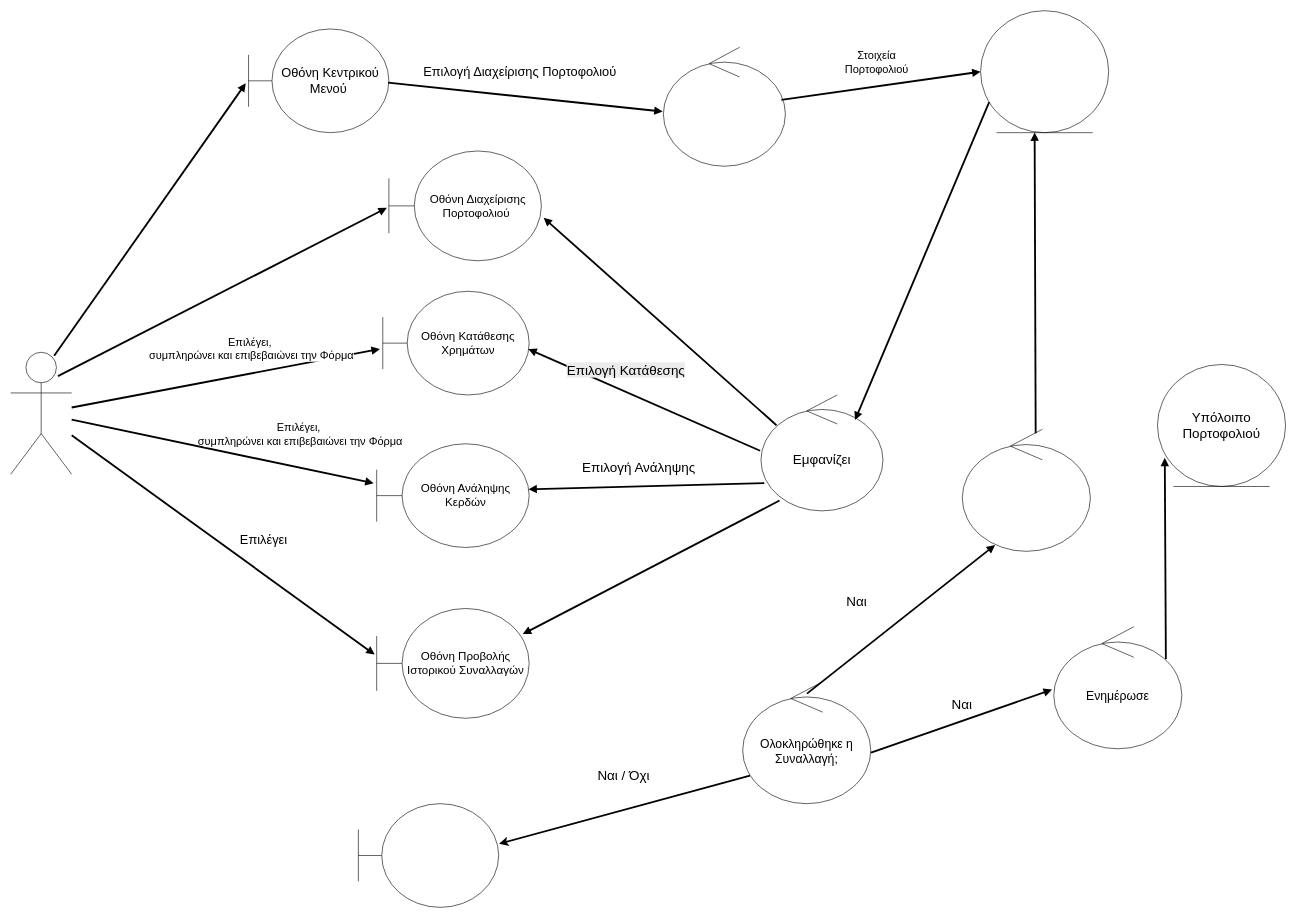
This 1296x918 diagram has some shape labels left out. Each missing label, with the box of its shape:
Ανακτά: (663, 47, 785, 166)
Βάση Δεδομένων: (980, 10, 1109, 133)
Καταχώρησε: (962, 429, 1090, 551)
Οθόνη Μηνύματος: (358, 803, 499, 907)
Χρήστης: (10, 352, 72, 474)
